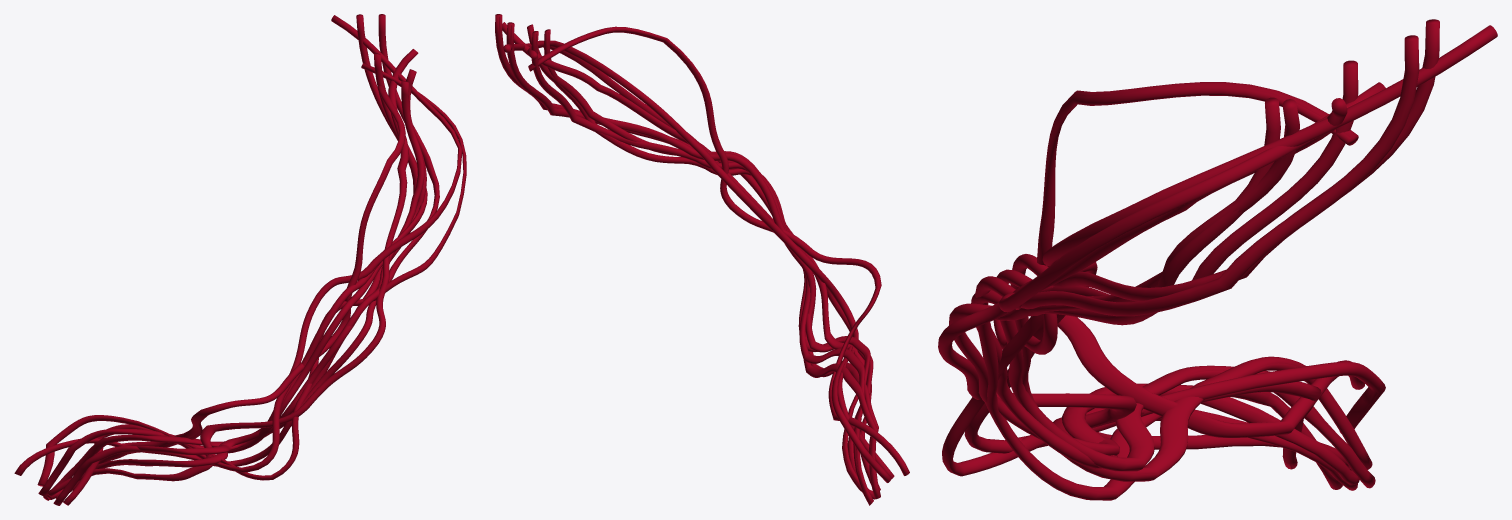
Rendered from CrazyTubes.glb.
The picture shows the model from 3 angles, left to right: view 1: azimuth 30°, elevation 25°; view 2: azimuth 150°, elevation 25°; view 3: azimuth 270°, elevation 25°; orthographic projection. The views are drawn at different scales.
Visible parts, largest first — view 1: Cube.005; view 2: Cube.005; view 3: Cube.005.
Part boxes in pixels (x1=…): Cube.005: x1=14, y1=14, x2=466, y2=505; Cube.005: x1=495, y1=14, x2=909, y2=505; Cube.005: x1=938, y1=19, x2=1497, y2=500.
Bounding box in the file's own units: 50.8 × 48.02 × 30.95.
